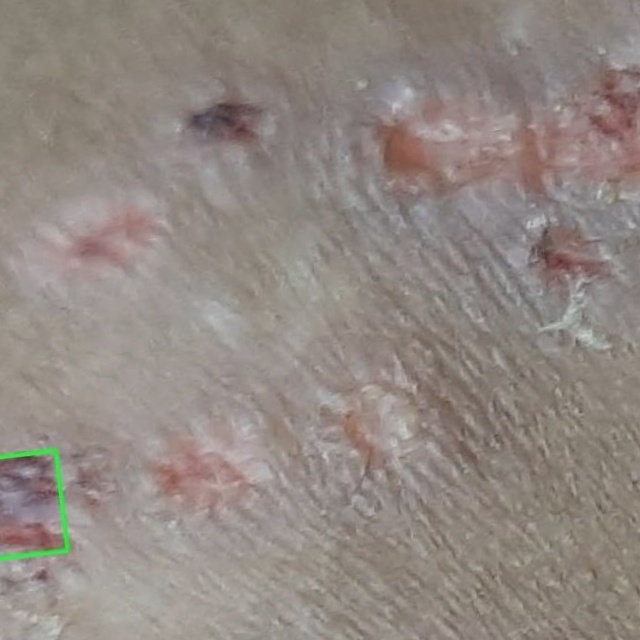Eczema: (0, 450, 67, 558)
